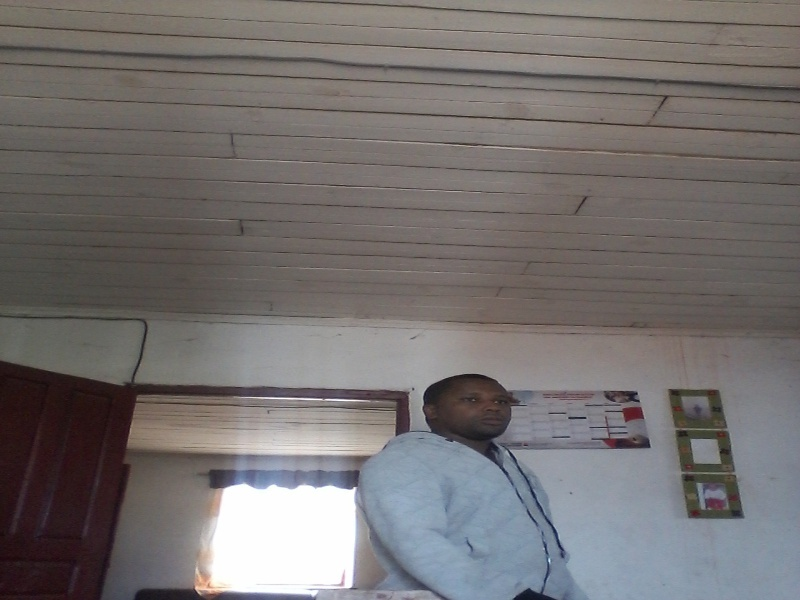TsisyArotava: (418, 366, 533, 461)
